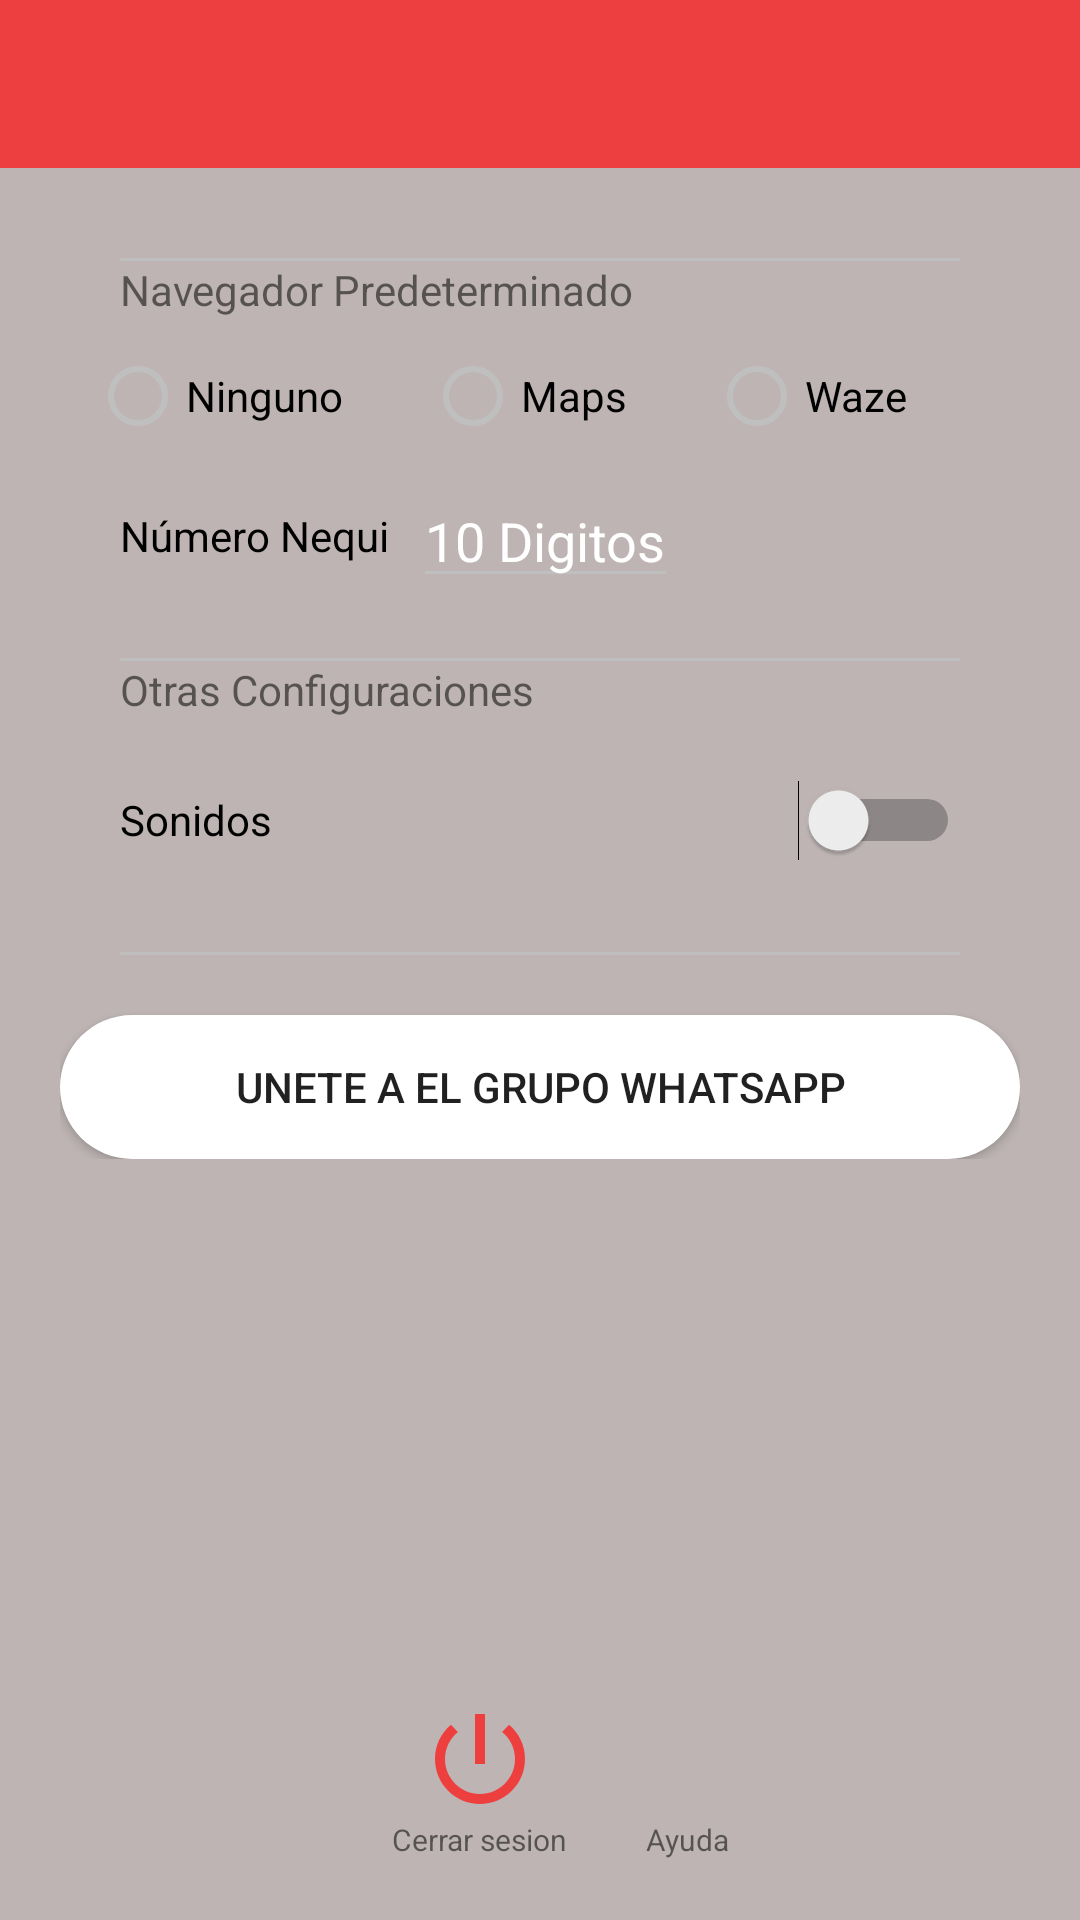

Where icons sit on this 1080w x 1920h app screen, as (x1, y1, x2, y2):
power: (435, 1714, 525, 1804)
